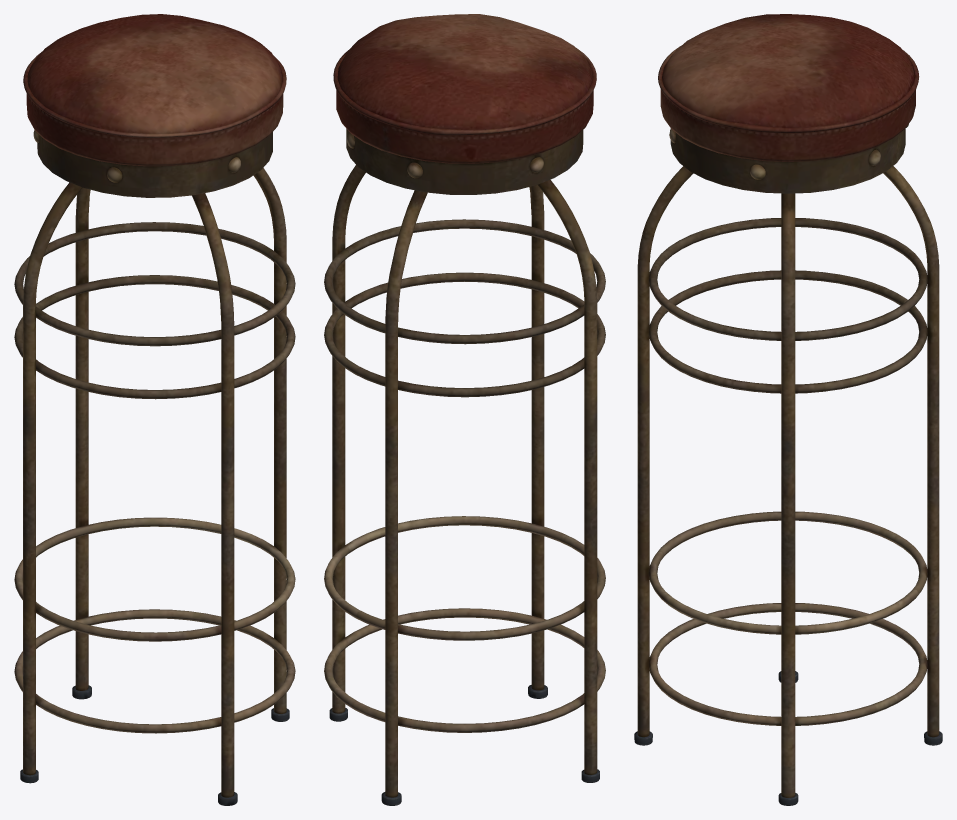
Rendered from bar-stool.glb.
3 renders of one model, left to right at view 1: azimuth 30°, elevation 25°; view 2: azimuth 150°, elevation 25°; view 3: azimuth 270°, elevation 25°, orthographic.
Parts seen in each view (by area): view 1: metal_stool_01; view 2: metal_stool_01; view 3: metal_stool_01.
Boxes of the visible parts, box(x1,y1,x2,y2) form: metal_stool_01: box(14, 14, 295, 805); metal_stool_01: box(324, 14, 605, 805); metal_stool_01: box(634, 14, 942, 805).
Size of the model in its own units: 0.352 by 0.8828 by 0.3546.
1 material, 1 textured.
